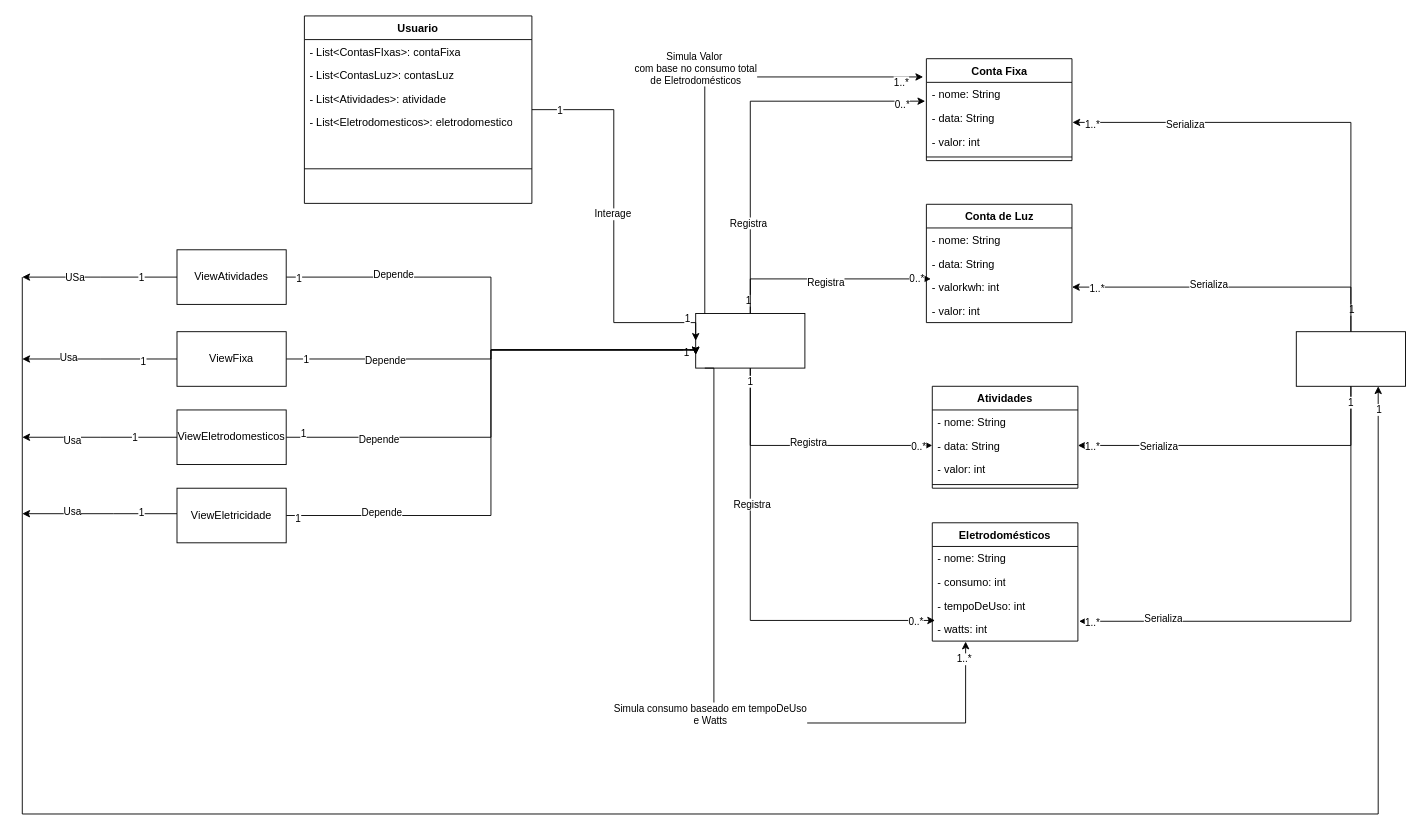
Image size: 1421x837. Some labels were removed from this diagram. Here are the shapes that lost their labels. From the top down, the centre of each, then its label:
point (750, 340): Controlador
point (1350, 358): Persistencia
